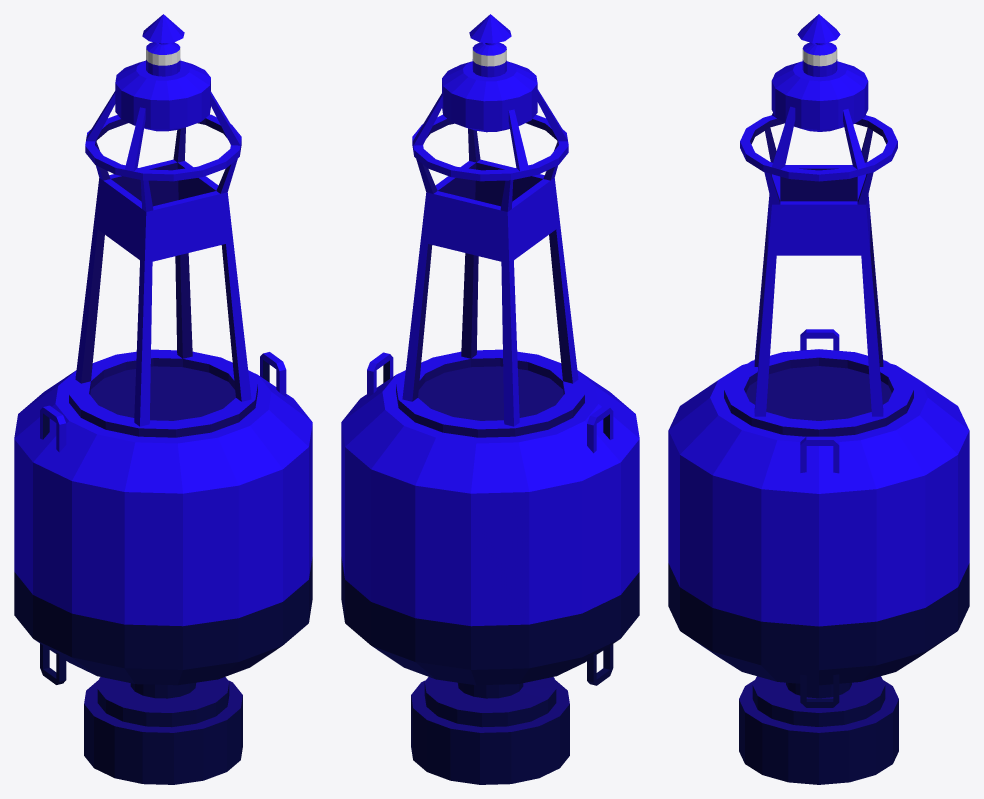
Rendered from buoy_d.glb.
3 views of the same model, side by side, from view 1: azimuth 30°, elevation 25°; view 2: azimuth 150°, elevation 25°; view 3: azimuth 270°, elevation 25° (orthographic).
Parts seen in each view (by area): view 1: buoy_lowpoly.003; view 2: buoy_lowpoly.003; view 3: buoy_lowpoly.003.
Boxes of the visible parts, x1=… form: buoy_lowpoly.003: x1=14, y1=14, x2=312, y2=784; buoy_lowpoly.003: x1=341, y1=14, x2=639, y2=784; buoy_lowpoly.003: x1=668, y1=14, x2=969, y2=784.
Bounding box in the file's own units: 2.16 × 5.84 × 2.16.
Materials: 1 (1 with a texture image).
